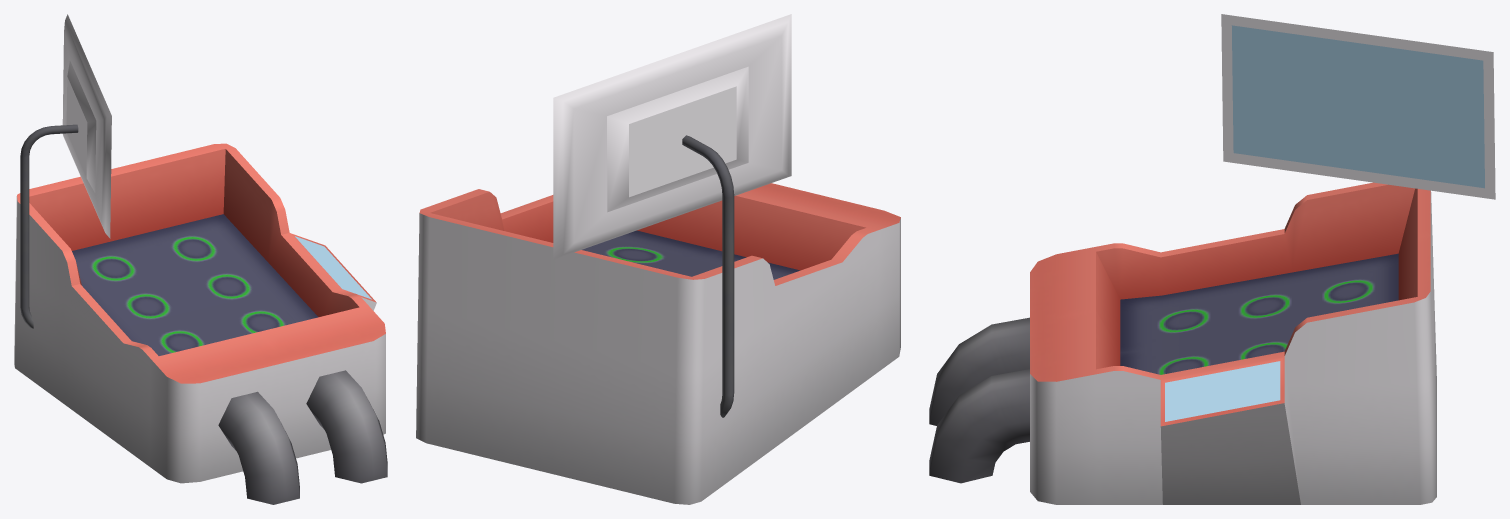
Rendered from maquina.obj.
The picture shows the model from 3 angles, left to right: view 1: azimuth 30°, elevation 25°; view 2: azimuth 150°, elevation 25°; view 3: azimuth 270°, elevation 25°; orthographic projection. The views are drawn at different scales.
Parts seen in each view (by area): view 1: polySurface5; view 2: polySurface5; view 3: polySurface5.
Part boxes in pixels (x1=…): polySurface5: x1=14, y1=14, x2=387, y2=504; polySurface5: x1=416, y1=14, x2=900, y2=504; polySurface5: x1=929, y1=14, x2=1495, y2=504.
Size of the model in its own units: 1.66 by 1.88 by 2.58.
1 material, 1 textured.
